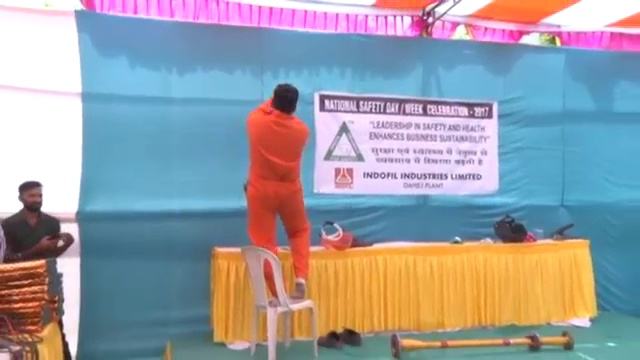helmet_off: (270, 83, 299, 118), (16, 180, 45, 213)
person: (238, 84, 316, 300), (2, 180, 76, 260)
